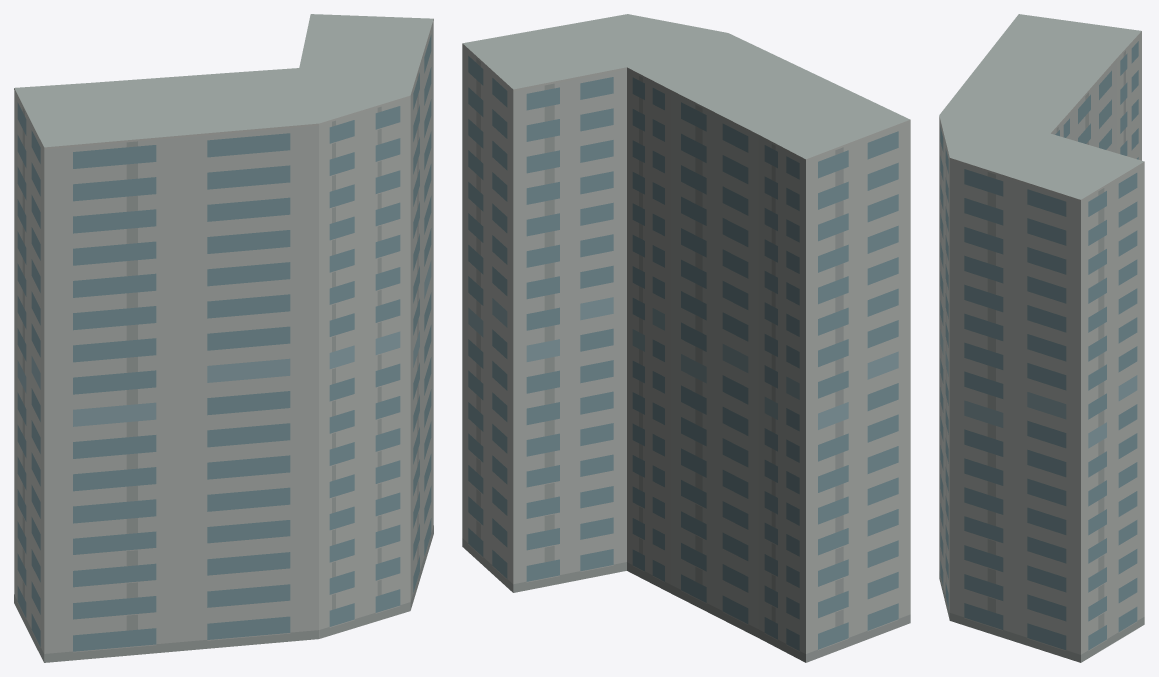
File: residential-e0925df3-74f3-4398-bb40-083fde5f55fc.glb
The picture shows the model from 3 angles, left to right: view 1: azimuth 30°, elevation 25°; view 2: azimuth 150°, elevation 25°; view 3: azimuth 270°, elevation 25°; orthographic projection. The views are drawn at different scales.
Parts seen in each view (by area): view 1: residential-e0925df3-74f3-4398-bb40-083fde5f55fc.tmp; view 2: residential-e0925df3-74f3-4398-bb40-083fde5f55fc.tmp; view 3: residential-e0925df3-74f3-4398-bb40-083fde5f55fc.tmp.
Boxes of the visible parts, bbox=[...] form: residential-e0925df3-74f3-4398-bb40-083fde5f55fc.tmp: bbox=[14, 14, 433, 662]; residential-e0925df3-74f3-4398-bb40-083fde5f55fc.tmp: bbox=[462, 14, 910, 662]; residential-e0925df3-74f3-4398-bb40-083fde5f55fc.tmp: bbox=[939, 14, 1144, 662].
Size of the model in its own units: 50.82 by 59 by 23.73.
